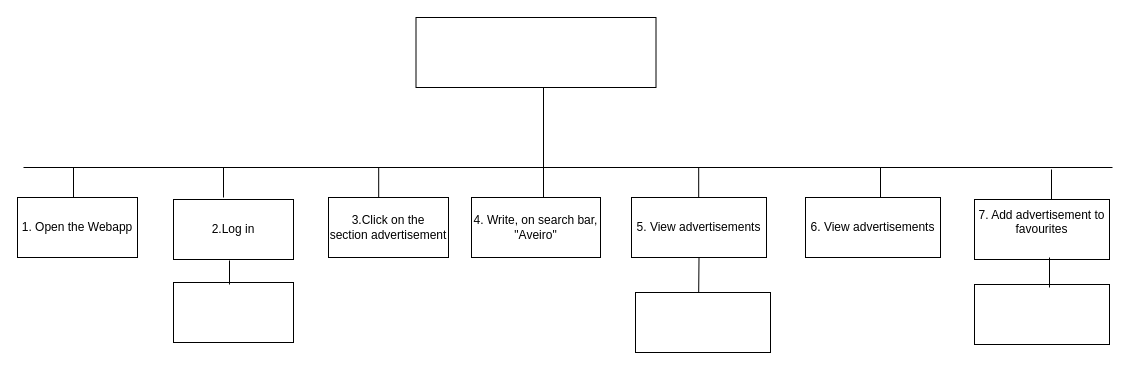
The diagram is 1131 pixels wide and 370 high, and some of its shapes have lost their labels. The shapes that lost their labels are listed below. From the top down, each one's centre as x and y in pixels, then its label:
point (535, 52): Adding location to favorites
point (233, 312): 2.1 (If necessary) Create an account
point (702, 322): 4.1 (optional) sort by a specific service
point (1042, 314): 7.1(optional) View list of favourites
